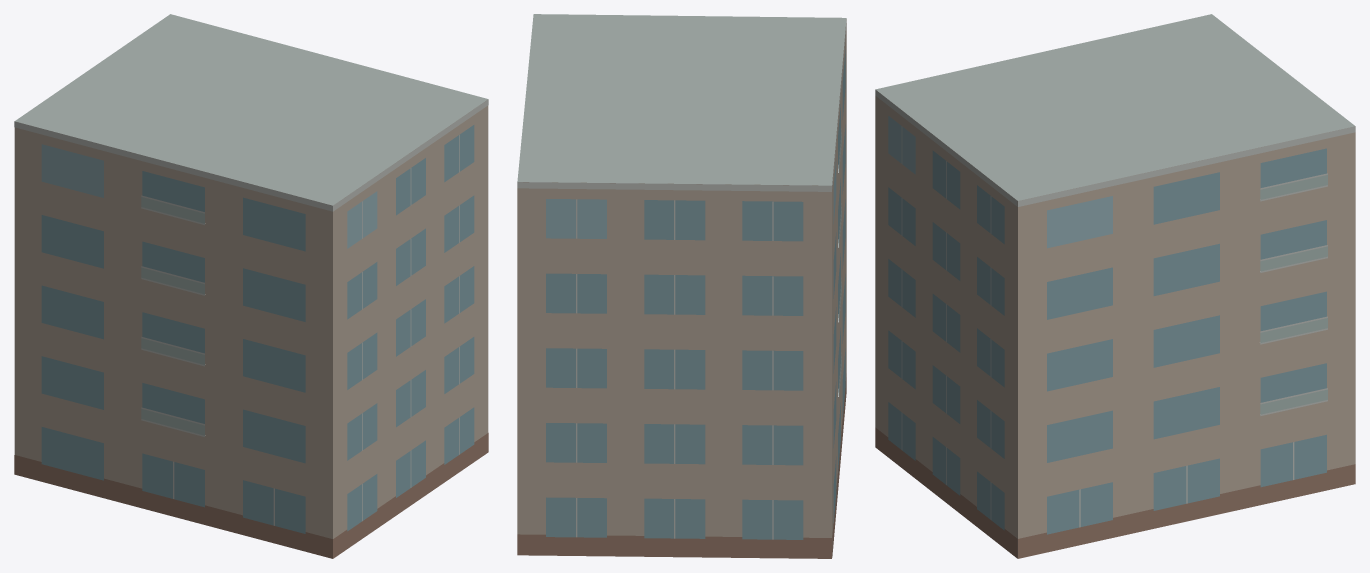
Rendered from survey-upis-32885936.glb.
3 renders of one model, left to right at view 1: azimuth 30°, elevation 25°; view 2: azimuth 150°, elevation 25°; view 3: azimuth 270°, elevation 25°, orthographic. The views are drawn at different scales.
Visible parts, largest first — view 1: survey-upis-32885936.tmp; view 2: survey-upis-32885936.tmp; view 3: survey-upis-32885936.tmp.
Part boxes in pixels (x1=…): survey-upis-32885936.tmp: x1=14, y1=14, x2=488, y2=558; survey-upis-32885936.tmp: x1=517, y1=14, x2=846, y2=558; survey-upis-32885936.tmp: x1=875, y1=14, x2=1355, y2=558.
Size of the model in its own units: 16.04 by 14.3 by 17.4.
